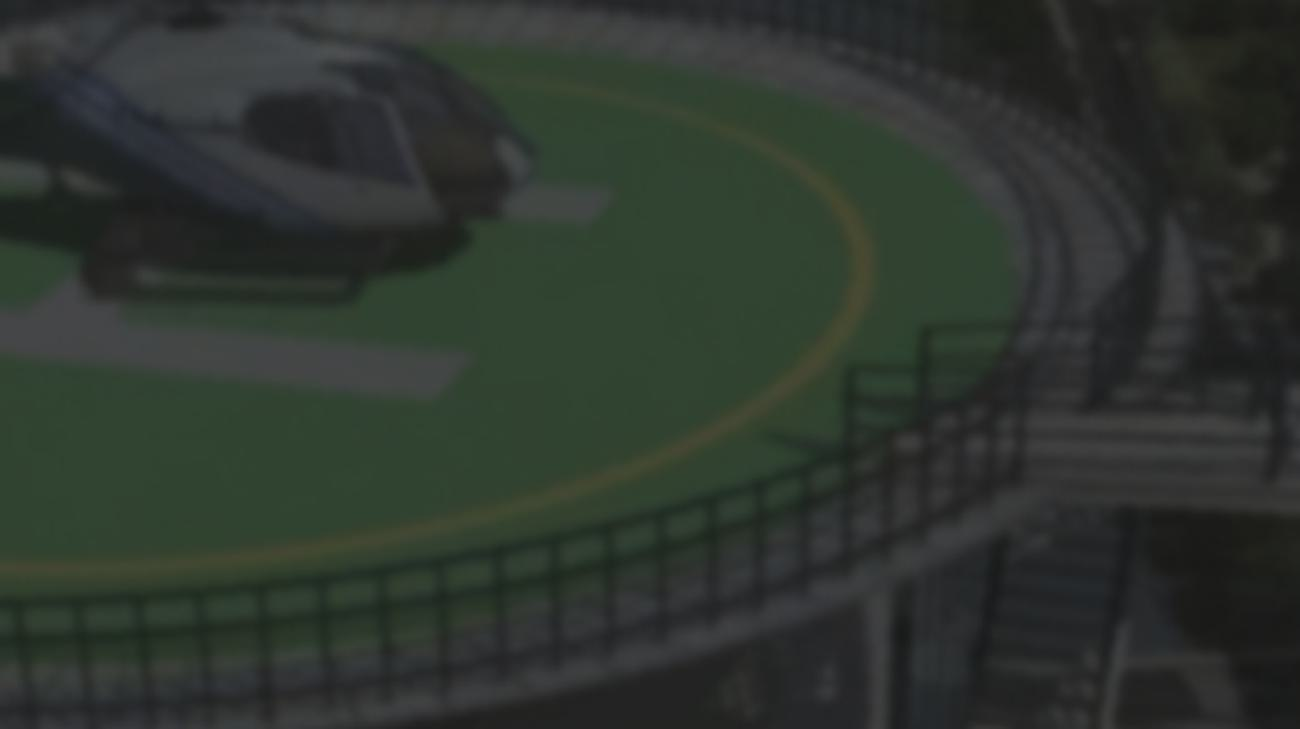Apron: (1, 70, 882, 591)
